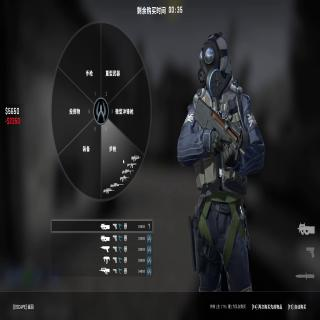CT-Head: (196, 32, 228, 82)
